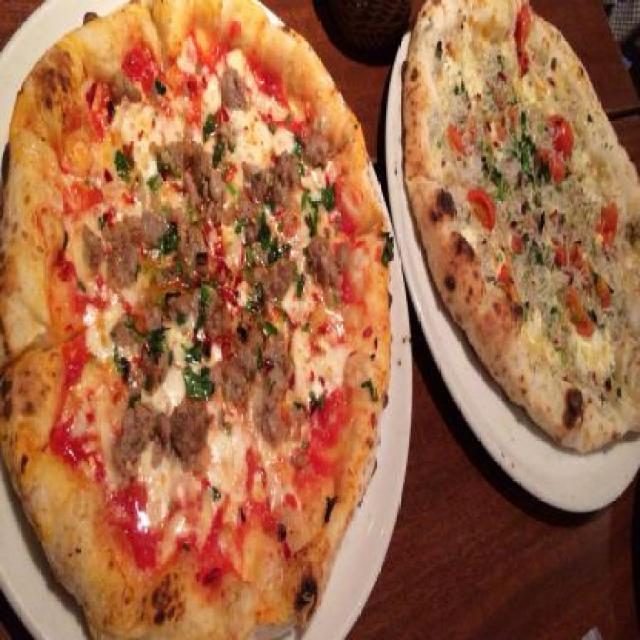Pizza: (12, 4, 408, 627), (403, 0, 639, 460)
